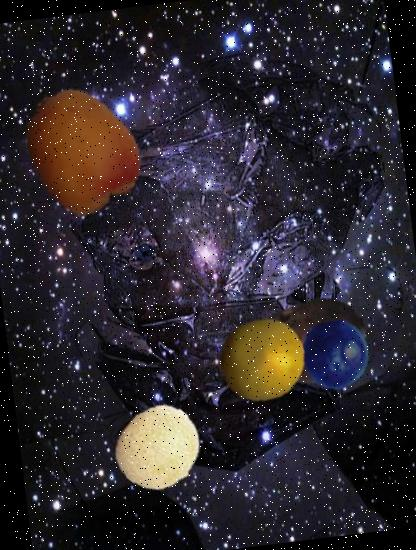Apricot: (9, 82, 149, 222)
Cantaloupe: (111, 400, 209, 498)
Chestnut: (246, 280, 372, 405)
Grapefruit: (214, 312, 310, 408)
Huckleberry: (296, 317, 372, 393)
